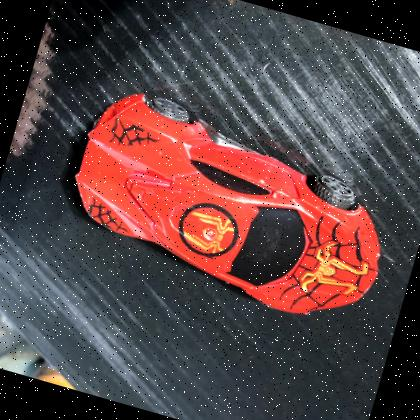Car: (44, 71, 418, 344)
